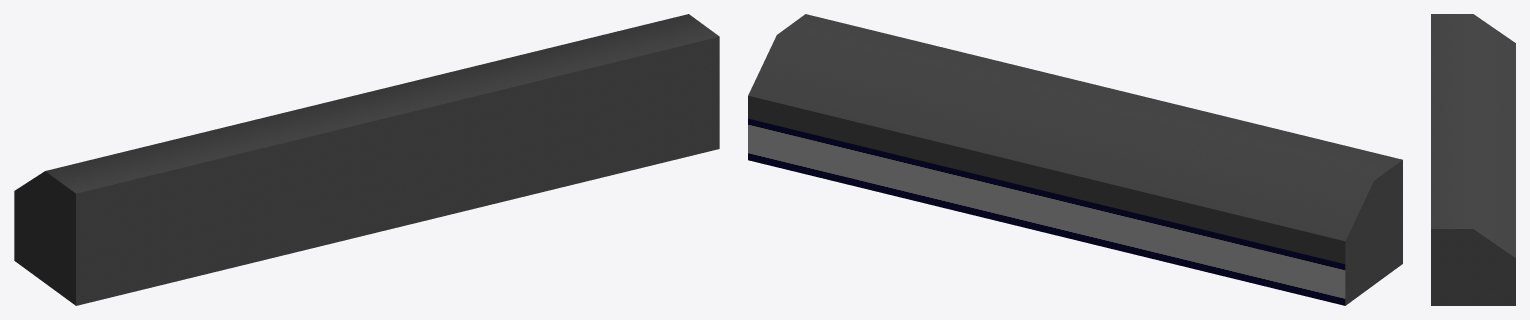
File: Window_Bank.fbx
3 views of the same model, side by side, from view 1: azimuth 30°, elevation 25°; view 2: azimuth 150°, elevation 25°; view 3: azimuth 270°, elevation 25° (orthographic). The views are drawn at different scales.
Parts seen in each view (by area): view 1: Corridor_WindowBank; view 2: Corridor_WindowBank; view 3: Corridor_WindowBank.
Part boxes in pixels (left/top/right/bottom): Corridor_WindowBank: left=14, top=14, right=719, bottom=305; Corridor_WindowBank: left=748, top=14, right=1402, bottom=305; Corridor_WindowBank: left=1431, top=14, right=1515, bottom=305.
Bounding box in the file's own units: 600 × 100 × 100.
Materials: 2 (2 with a texture image).
